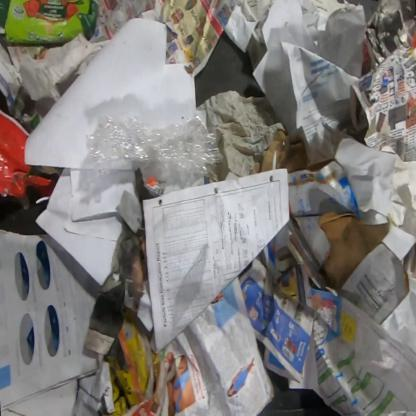cardboard: (317, 211, 415, 325), (0, 34, 103, 125), (288, 158, 360, 268), (0, 0, 100, 48), (253, 130, 308, 175)
rigid_plastic: (0, 109, 59, 204)
soft_plastic: (84, 112, 225, 191)
